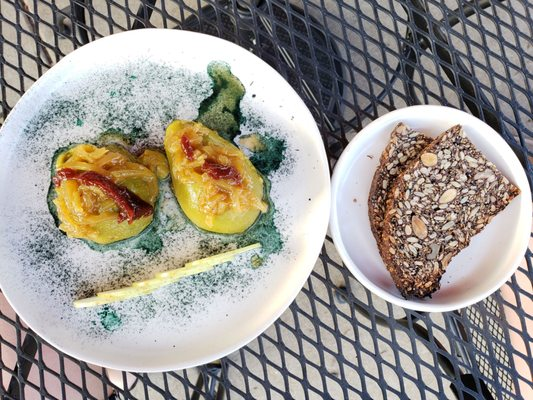curry: (197, 60, 246, 140)
sushi: (4, 26, 333, 374), (329, 105, 531, 316)
